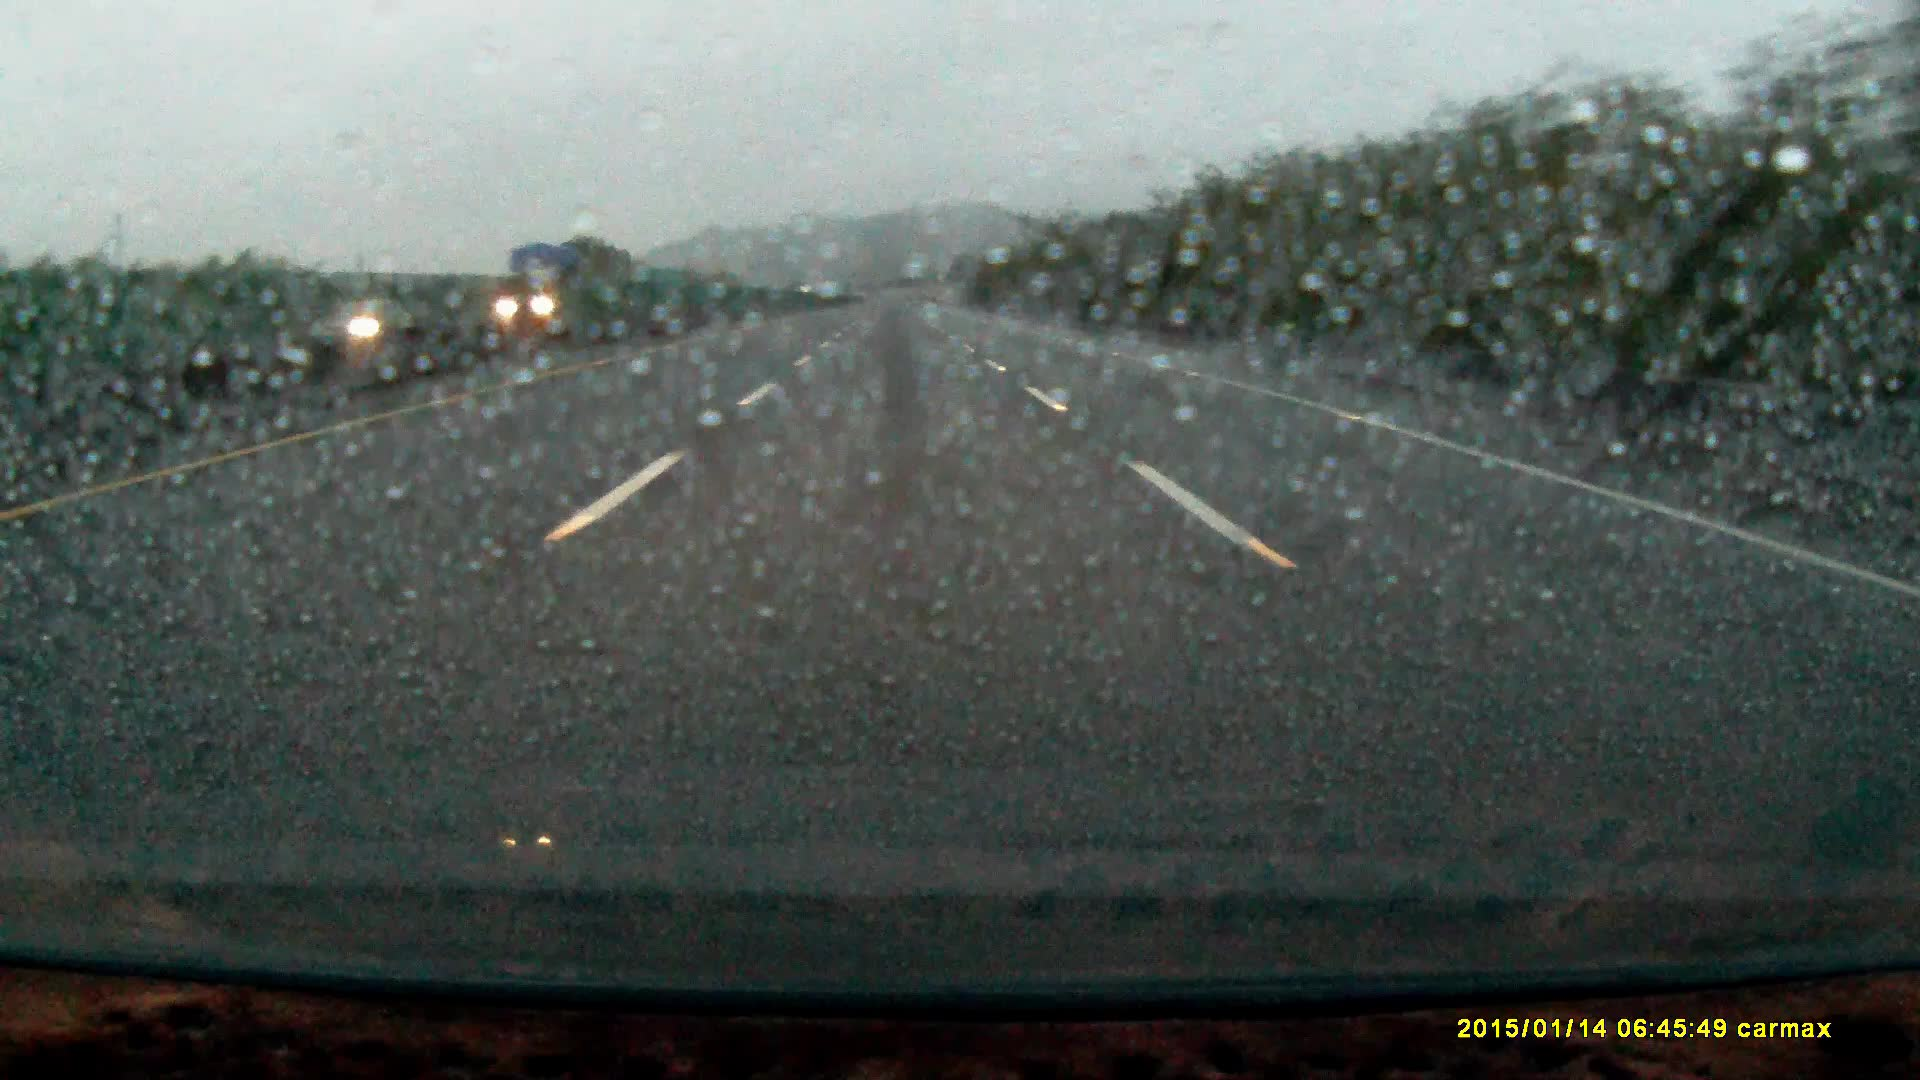vehicle: (500, 243, 617, 334), (316, 301, 418, 338)
